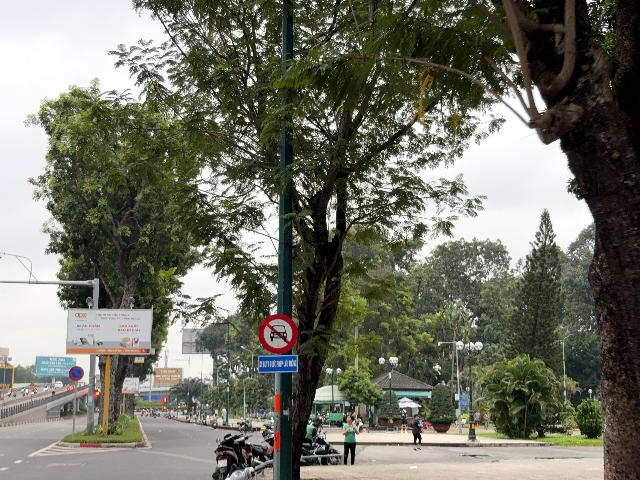cam-o-to: (258, 314, 298, 354)
